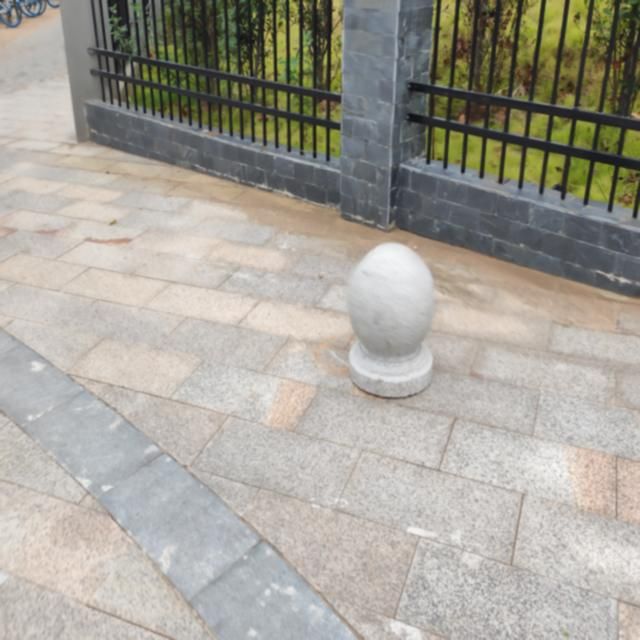spherical_roadblock: (341, 236, 442, 402)
